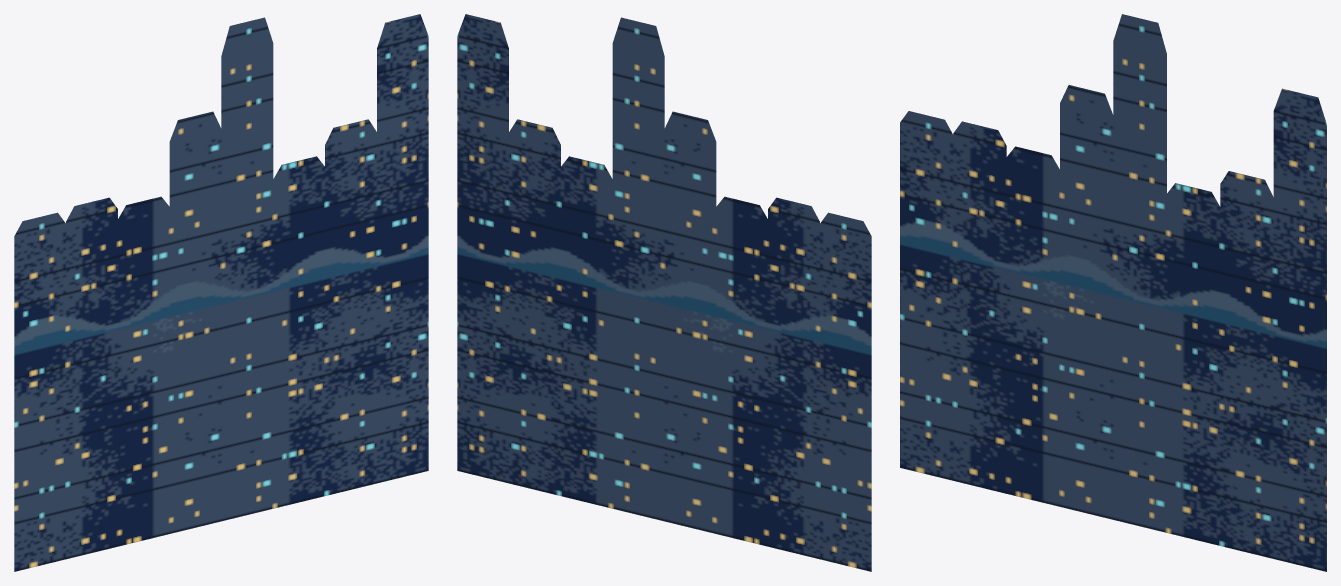
The model's file is cysky.near__tile.glb.
The picture shows the model from 3 angles, left to right: view 1: azimuth 30°, elevation 25°; view 2: azimuth 150°, elevation 25°; view 3: azimuth 330°, elevation 25°; orthographic projection. The views are drawn at different scales.
Visible parts, largest first — view 1: kit_card_skyline; view 2: kit_card_skyline; view 3: kit_card_skyline.
Boxes of the visible parts, x1=… form: kit_card_skyline: x1=14, y1=14, x2=428, y2=571; kit_card_skyline: x1=457, y1=14, x2=871, y2=571; kit_card_skyline: x1=900, y1=14, x2=1326, y2=571.
Size of the model in its own units: 24 by 27.3 by 0.
1 material, 1 textured.
